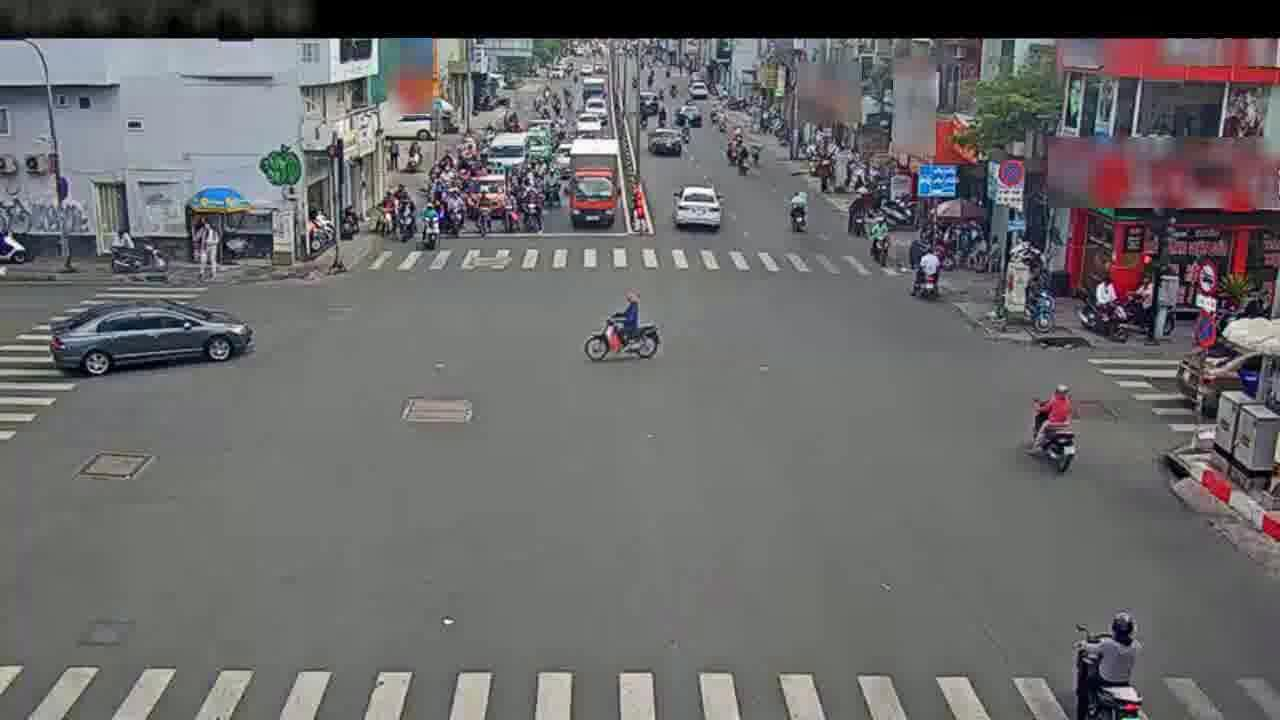14: (480, 125, 531, 179)
8: (565, 144, 619, 226)
container: (48, 294, 242, 380), (1168, 314, 1260, 415), (480, 125, 531, 179), (671, 181, 721, 236), (643, 122, 686, 164)
motorbike: (1071, 616, 1140, 713), (587, 289, 657, 365), (1028, 379, 1077, 471), (907, 239, 944, 306), (866, 211, 898, 275), (419, 196, 446, 255), (844, 187, 869, 247), (467, 199, 499, 245), (786, 183, 810, 244), (488, 191, 519, 238), (522, 181, 546, 233), (395, 201, 418, 245), (371, 188, 393, 233), (725, 133, 747, 173)
